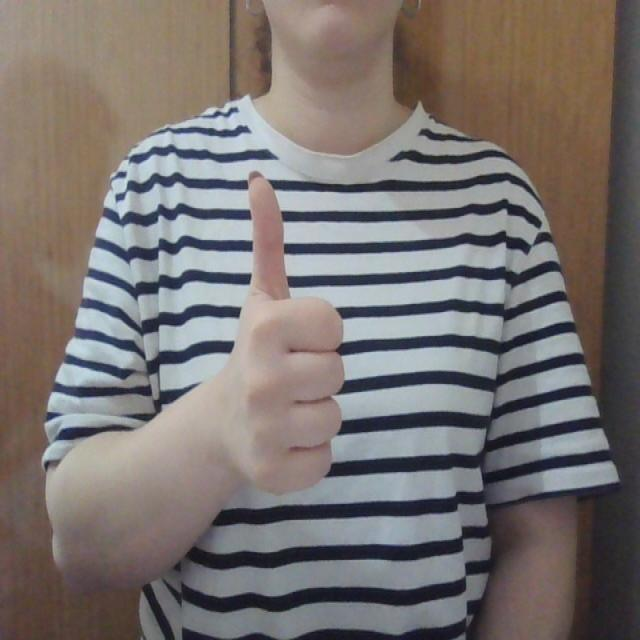Tamam: (211, 163, 357, 501)
